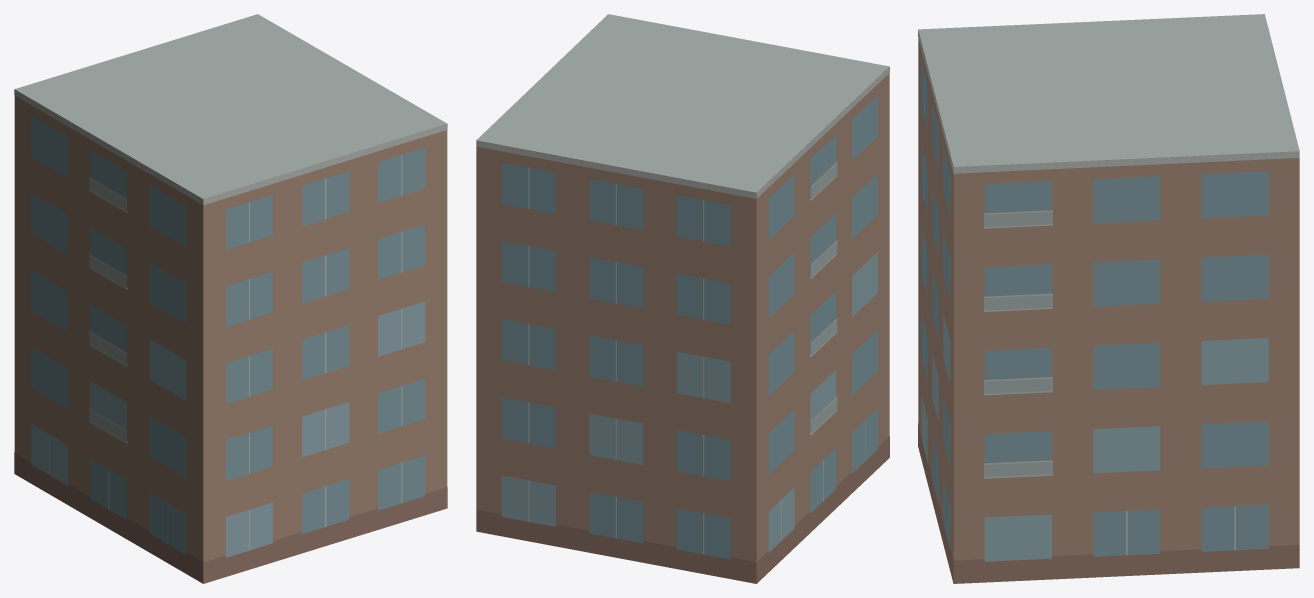
Rendered from survey-upis-32983821.glb.
3 views of the same model, side by side, from view 1: azimuth 30°, elevation 25°; view 2: azimuth 150°, elevation 25°; view 3: azimuth 270°, elevation 25° (orthographic). The views are drawn at different scales.
Visible parts, largest first — view 1: survey-upis-32983821.tmp; view 2: survey-upis-32983821.tmp; view 3: survey-upis-32983821.tmp.
Boxes of the visible parts, box(x1,y1,x2,y2) form: survey-upis-32983821.tmp: box(14, 14, 447, 583); survey-upis-32983821.tmp: box(476, 14, 889, 583); survey-upis-32983821.tmp: box(918, 14, 1299, 583).
Size of the model in its own units: 12.02 by 15.25 by 12.67.
